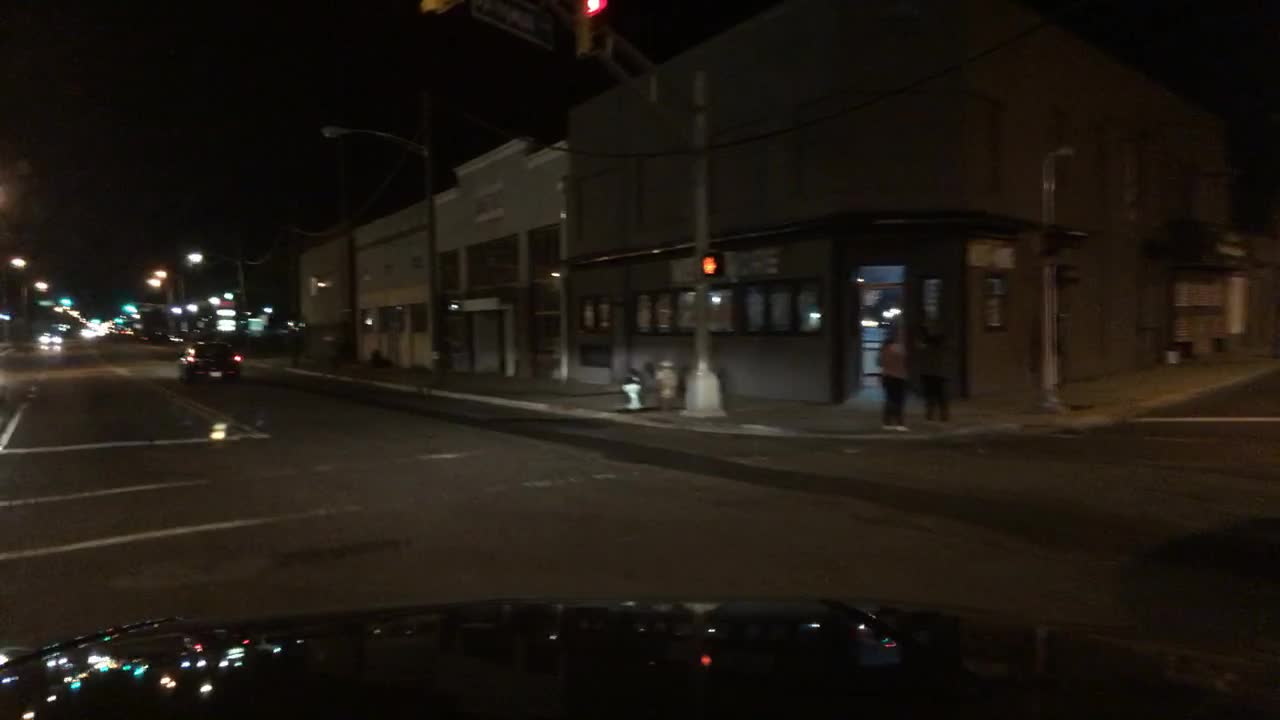car: (176, 339, 243, 383), (134, 325, 167, 345), (33, 331, 64, 344)
person: (875, 322, 912, 436), (914, 322, 954, 423), (655, 358, 681, 412), (635, 361, 659, 410)
traffic light: (579, 0, 616, 55), (702, 248, 731, 276), (55, 297, 71, 308), (122, 304, 137, 313)
traffic sign: (467, 0, 557, 54)
